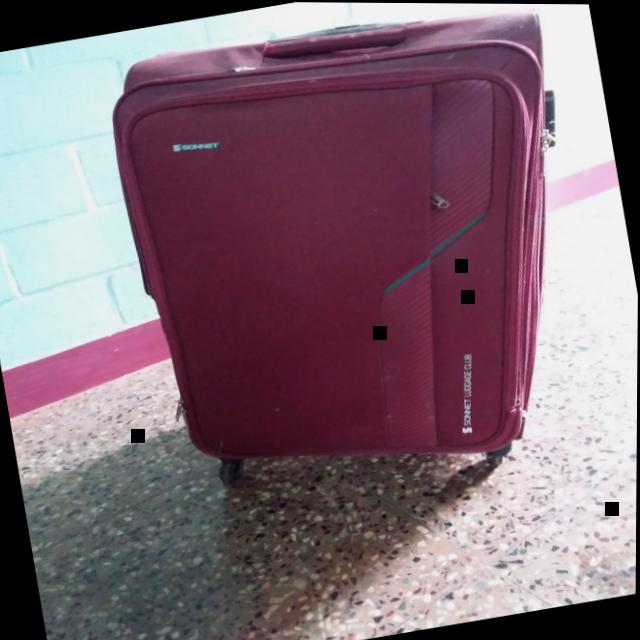luggage: (113, 11, 554, 493)
